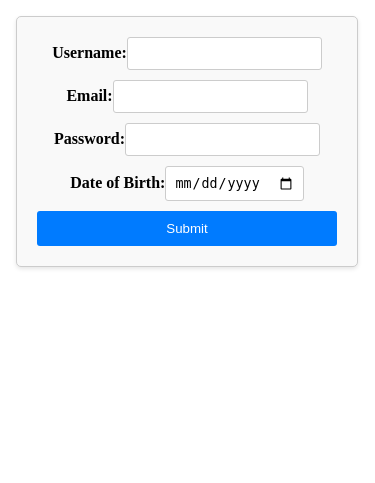
Test: Registration form functionality › Customer is able to fill registration form and to see the data after submitting
Type "somename" into the field named "username" next to "Username:". click: x=225, y=54
box: top-left (127, 37), bottom-right (322, 70)
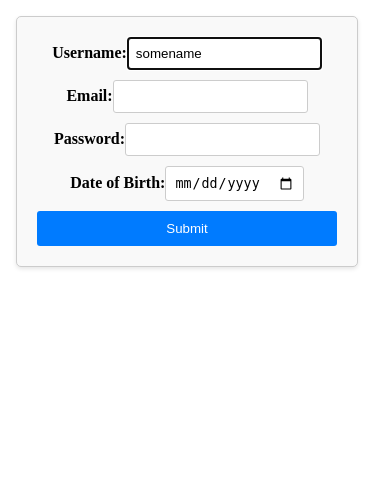
Type "somename@gmail.com" into the field named "email" next to "Email:". click: x=211, y=97
box: top-left (113, 80), bottom-right (308, 113)
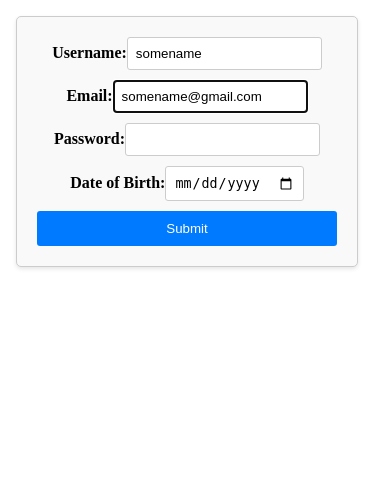
Type "1234567" into the password field named "password". click: x=223, y=140
box: top-left (125, 123), bottom-right (320, 156)
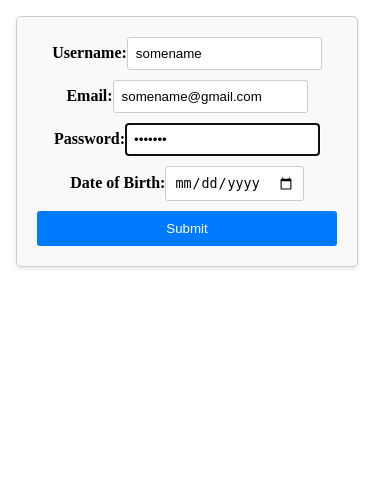
Type "1994-01-01" into the date field named "dob". click: x=234, y=184
box: top-left (165, 166), bottom-right (303, 201)
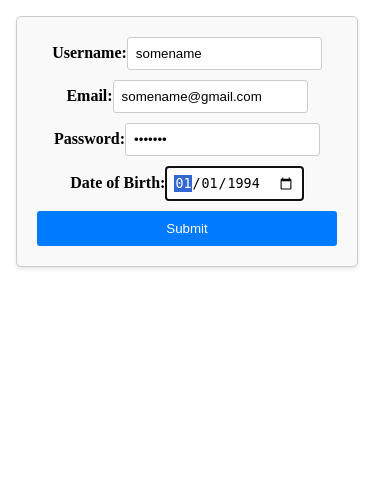
Click the button "Submit". click: x=187, y=229
box: top-left (37, 211), bottom-right (337, 246)
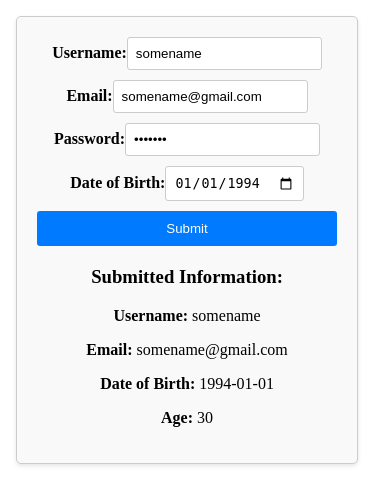
Expected: the heading "Submitted Information:" is shown, top-left (91, 266), bottom-right (283, 287)
Expected: the text "Username: somename" is shown, top-left (114, 307), bottom-right (261, 324)
Expected: the text "Email: somename@gmail.com" is shown, top-left (86, 341), bottom-right (288, 358)
